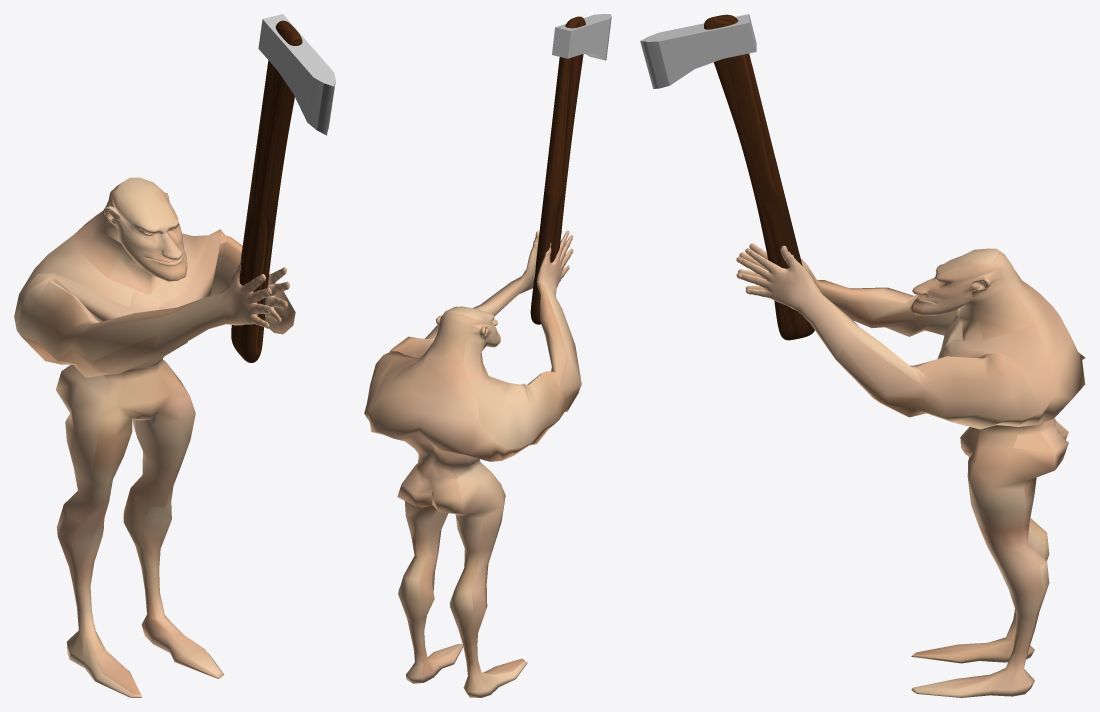
File: axeStance2.obj
The picture shows the model from 3 angles, left to right: view 1: azimuth 30°, elevation 25°; view 2: azimuth 150°, elevation 25°; view 3: azimuth 270°, elevation 25°; orthographic projection. The views are drawn at different scales.
Parts seen in each view (by area): view 1: soldiersoldier120, pCube3; view 2: soldiersoldier120, pCube3; view 3: soldiersoldier120, pCube3.
Boxes of the visible parts, x1,y1,x2,y2 form: soldiersoldier120: [14, 177, 295, 697]; pCube3: [231, 14, 335, 362]; soldiersoldier120: [364, 230, 581, 697]; pCube3: [530, 14, 611, 324]; soldiersoldier120: [736, 243, 1085, 697]; pCube3: [640, 14, 814, 340].
Size of the model in its own units: 2.01 by 6.78 by 4.15.
